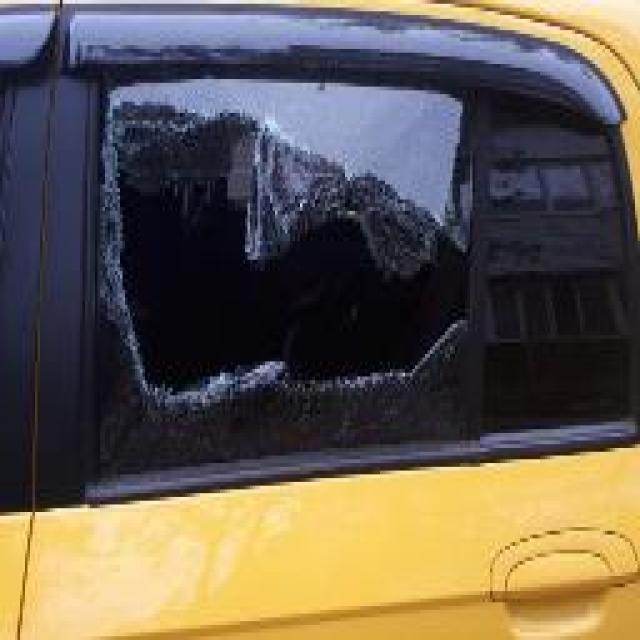Door: (65, 8, 638, 640)
